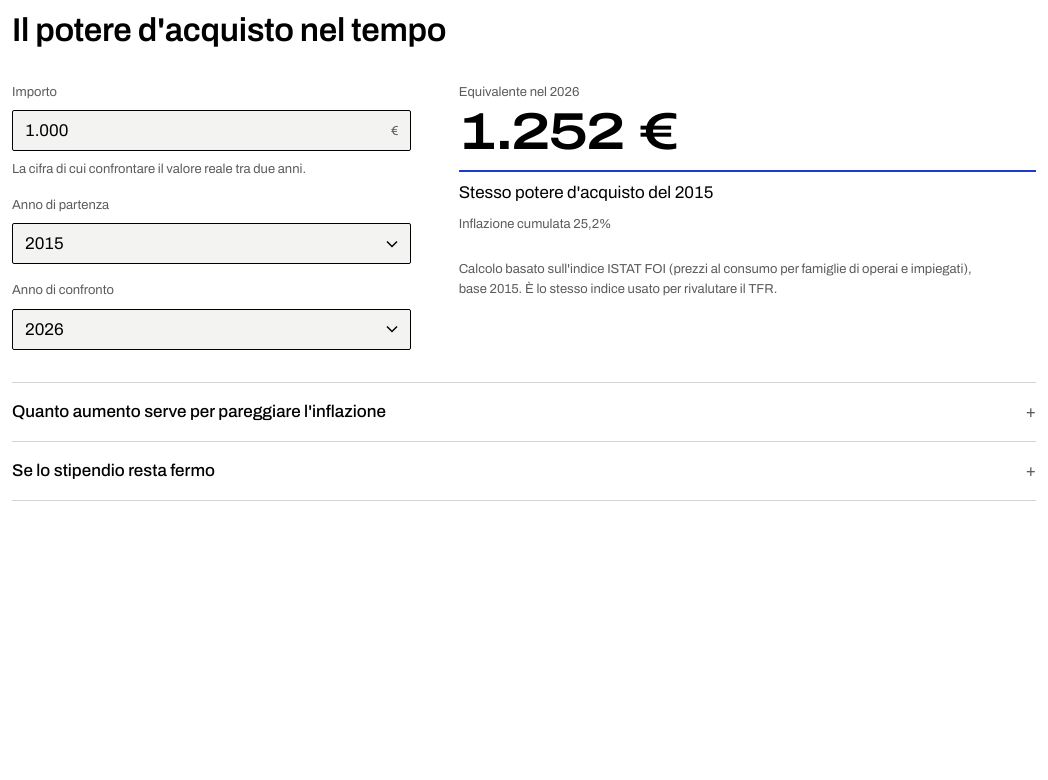
Test: InflationPage › works out the raise that keeps pace with inflation
This screenshot has width=1048, height=780.
What coordinates should you click on to do the following:
click the heading "Quanto aumento serve per pareggiare l'inflazione"
I would click on:
 (199, 411)
Its box is x1=12 y1=402 x2=386 y2=420.
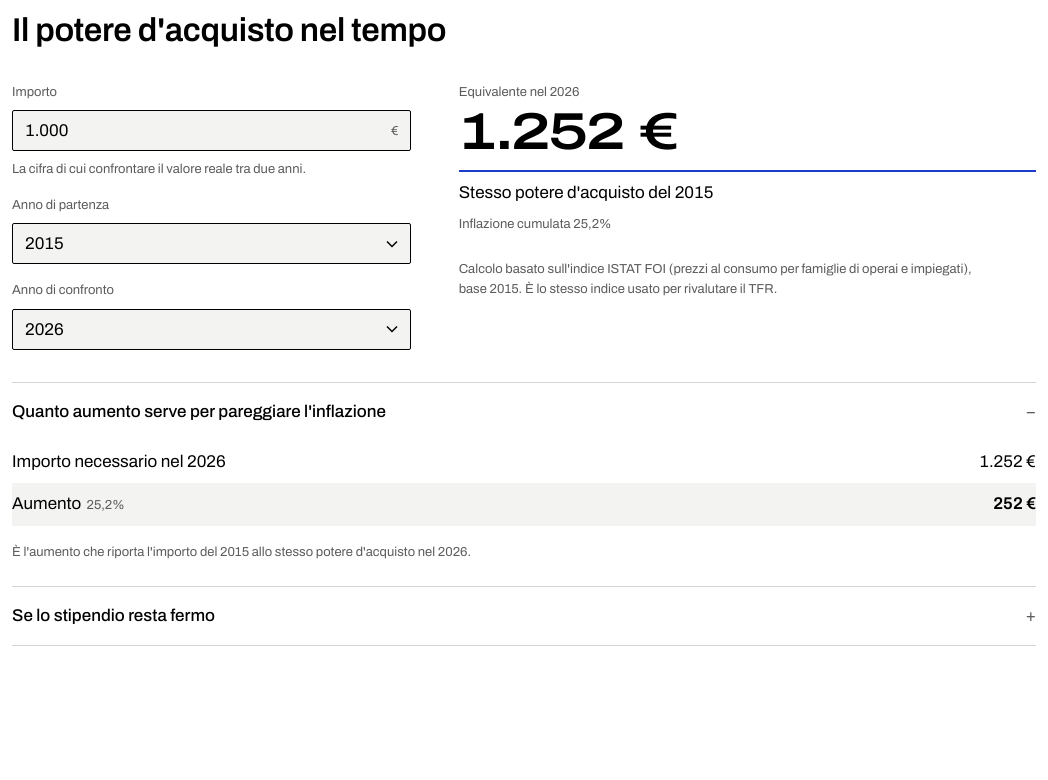
Expected: the number of rows is 2, x1=12 y1=441 x2=1036 y2=483; x1=12 y1=483 x2=1036 y2=526
Expected: the row "Importo necessario nel 2026 1.252 €" is shown, x1=12 y1=441 x2=1036 y2=483
Expected: the row "Aumento25,2% 252 €" is shown, x1=12 y1=483 x2=1036 y2=526
